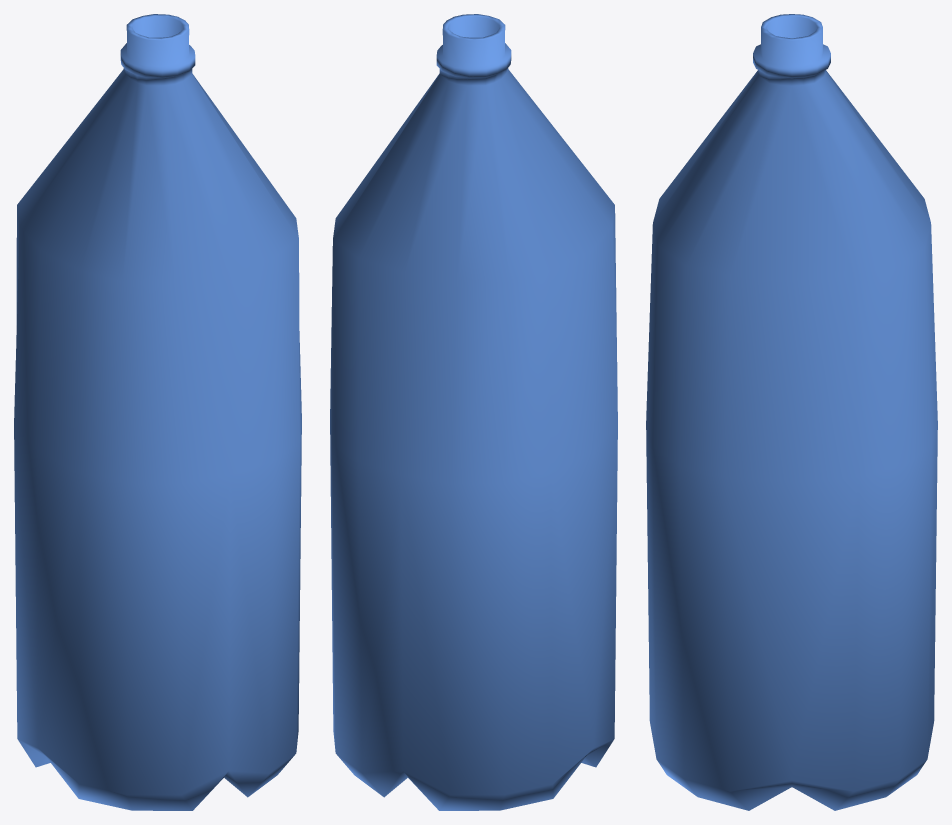
The model's file is Water_bottle_.fbx.
3 renders of one model, left to right at view 1: azimuth 30°, elevation 25°; view 2: azimuth 150°, elevation 25°; view 3: azimuth 270°, elevation 25°, orthographic.
Parts seen in each view (by area): view 1: Water_bottle; view 2: Water_bottle; view 3: Water_bottle.
Part boxes in pixels (x1=…): Water_bottle: x1=14, y1=14, x2=301, y2=810; Water_bottle: x1=330, y1=14, x2=617, y2=810; Water_bottle: x1=646, y1=14, x2=937, y2=810.
Size of the model in its own units: 11.74 by 34.08 by 12.27.
1 material, 1 textured.
